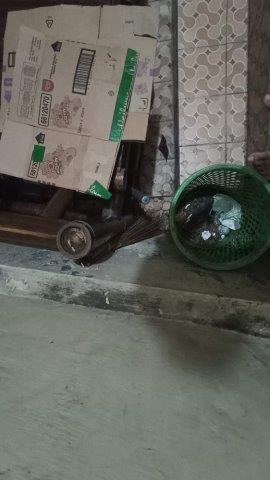kardus: (1, 6, 158, 194)
